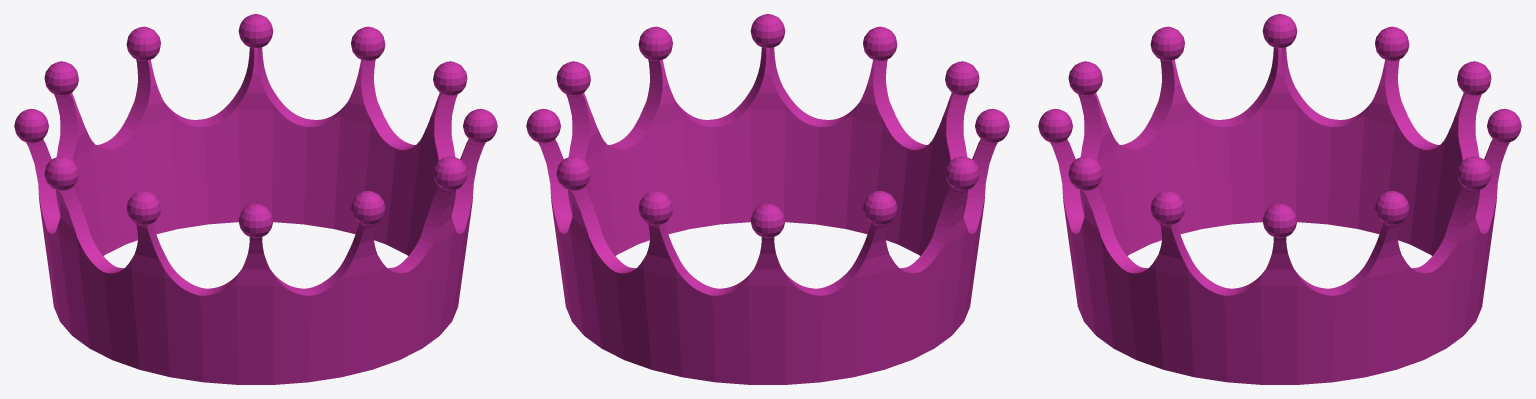
Rendered from corona.glb.
3 renders of one model, left to right at view 1: azimuth 30°, elevation 25°; view 2: azimuth 150°, elevation 25°; view 3: azimuth 270°, elevation 25°, orthographic.
Visible parts, largest first — view 1: Mesh_Mesh_head_geo.001_lambert2SG.001; view 2: Mesh_Mesh_head_geo.001_lambert2SG.001; view 3: Mesh_Mesh_head_geo.001_lambert2SG.001.
Boxes of the visible parts, bbox=[...] form: Mesh_Mesh_head_geo.001_lambert2SG.001: bbox=[14, 14, 497, 384]; Mesh_Mesh_head_geo.001_lambert2SG.001: bbox=[526, 14, 1009, 384]; Mesh_Mesh_head_geo.001_lambert2SG.001: bbox=[1038, 14, 1521, 384].
Size of the model in its own units: 0.0334 by 0.0144 by 0.0334.
